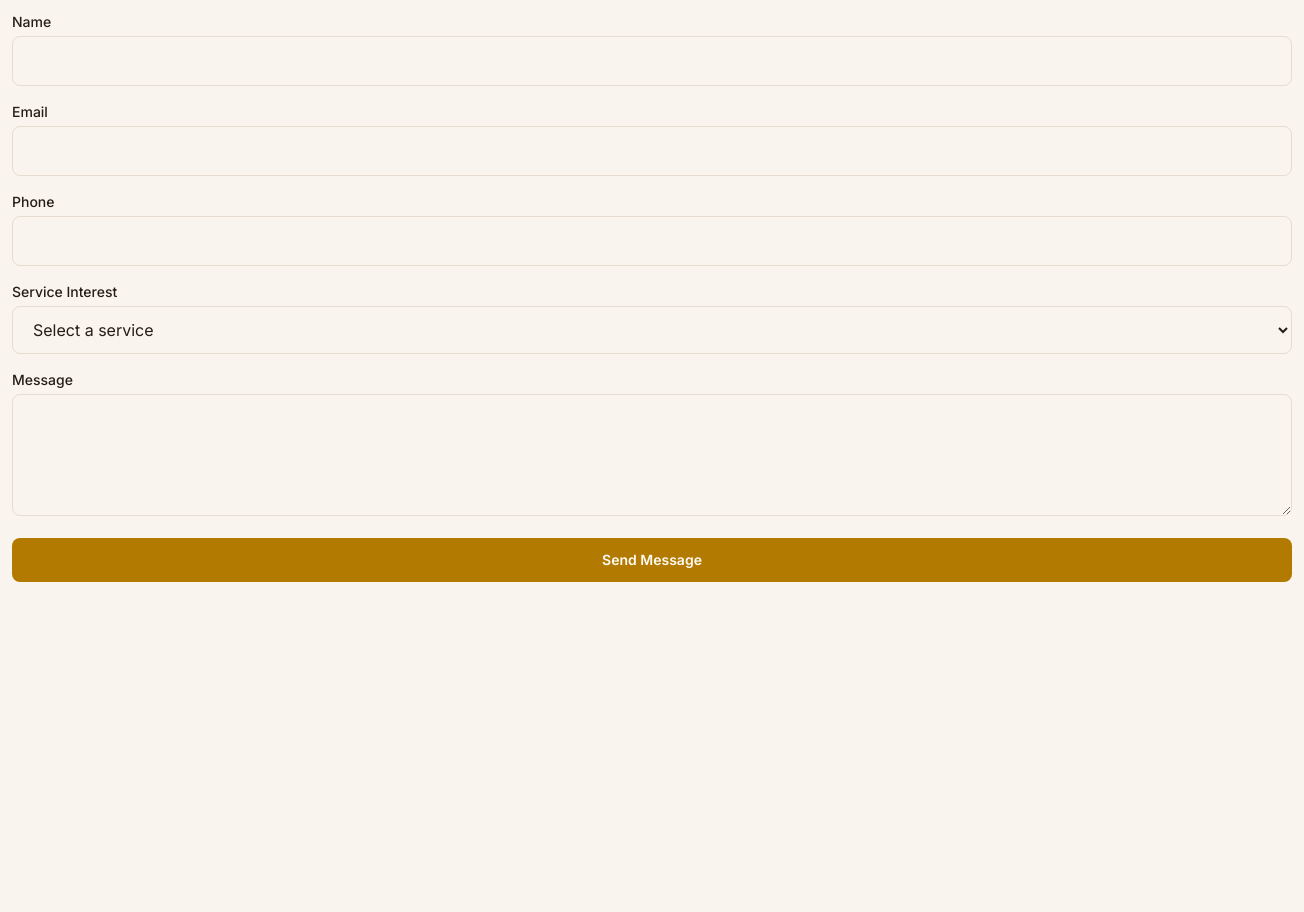
Scenario: ContactForm › validates email format
Type "notanemail" into the field labelled "Email". click: (652, 151)
box: top-left (12, 126), bottom-right (1292, 176)
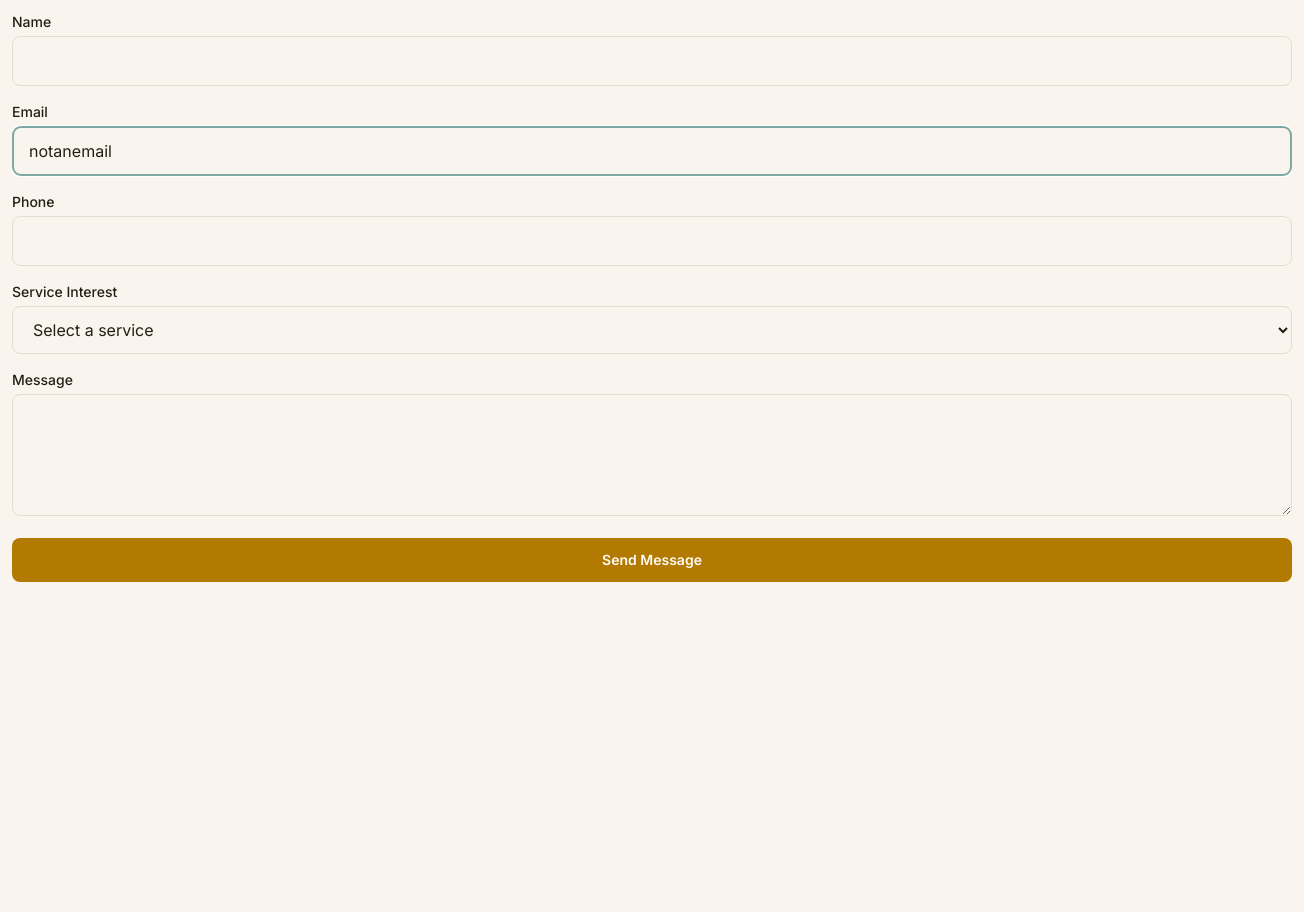
Click the button "Send Message". click: (652, 560)
box: top-left (12, 538), bottom-right (1292, 582)
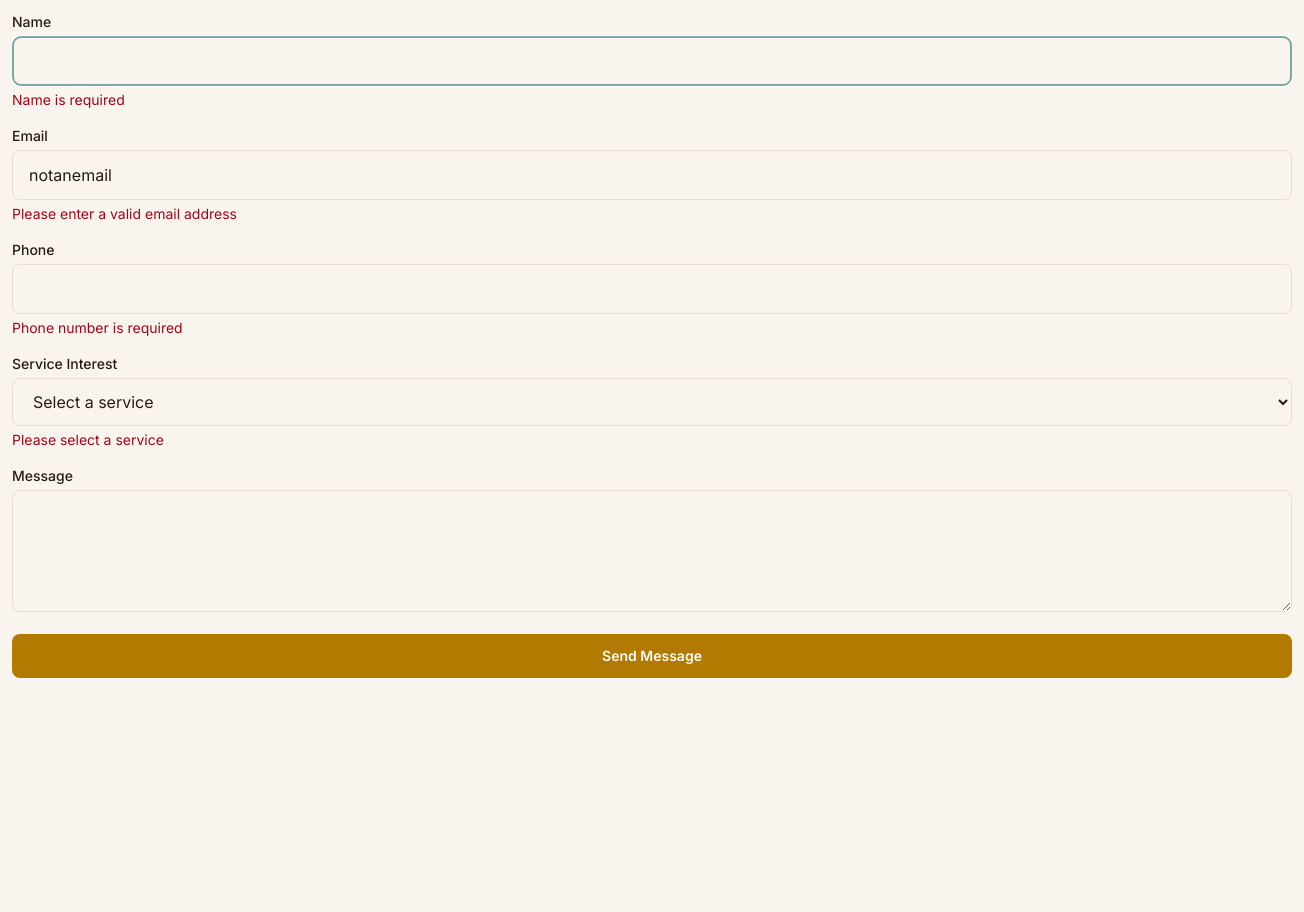
Now the text "Please enter a valid email address" is shown, box top-left (12, 205), bottom-right (237, 222)
